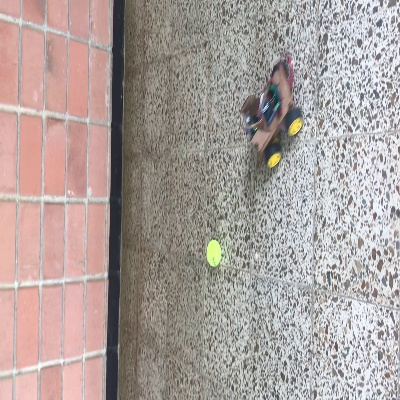Ball: (206, 239, 221, 268)
Robot: (238, 63, 304, 168)
